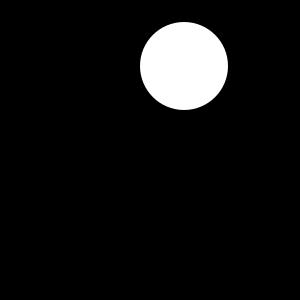rectangle: (140, 22, 228, 110)
